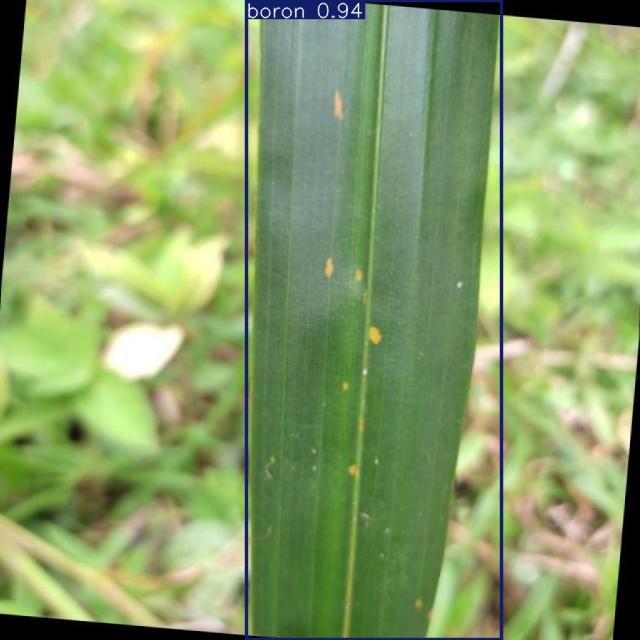nitrogen: (246, 0, 502, 640)
